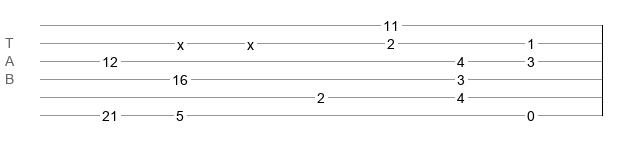0: (527, 108, 535, 118)
1: (527, 36, 535, 46)
11: (383, 18, 399, 28)
12: (102, 54, 118, 64)
16: (172, 72, 188, 82)
2: (317, 90, 325, 100), (387, 36, 395, 46)
21: (102, 108, 118, 118)
3: (457, 72, 465, 82), (527, 54, 535, 64)
4: (457, 54, 465, 64), (457, 90, 465, 100)
5: (176, 108, 184, 118)
x: (177, 37, 184, 45), (247, 37, 254, 45)
